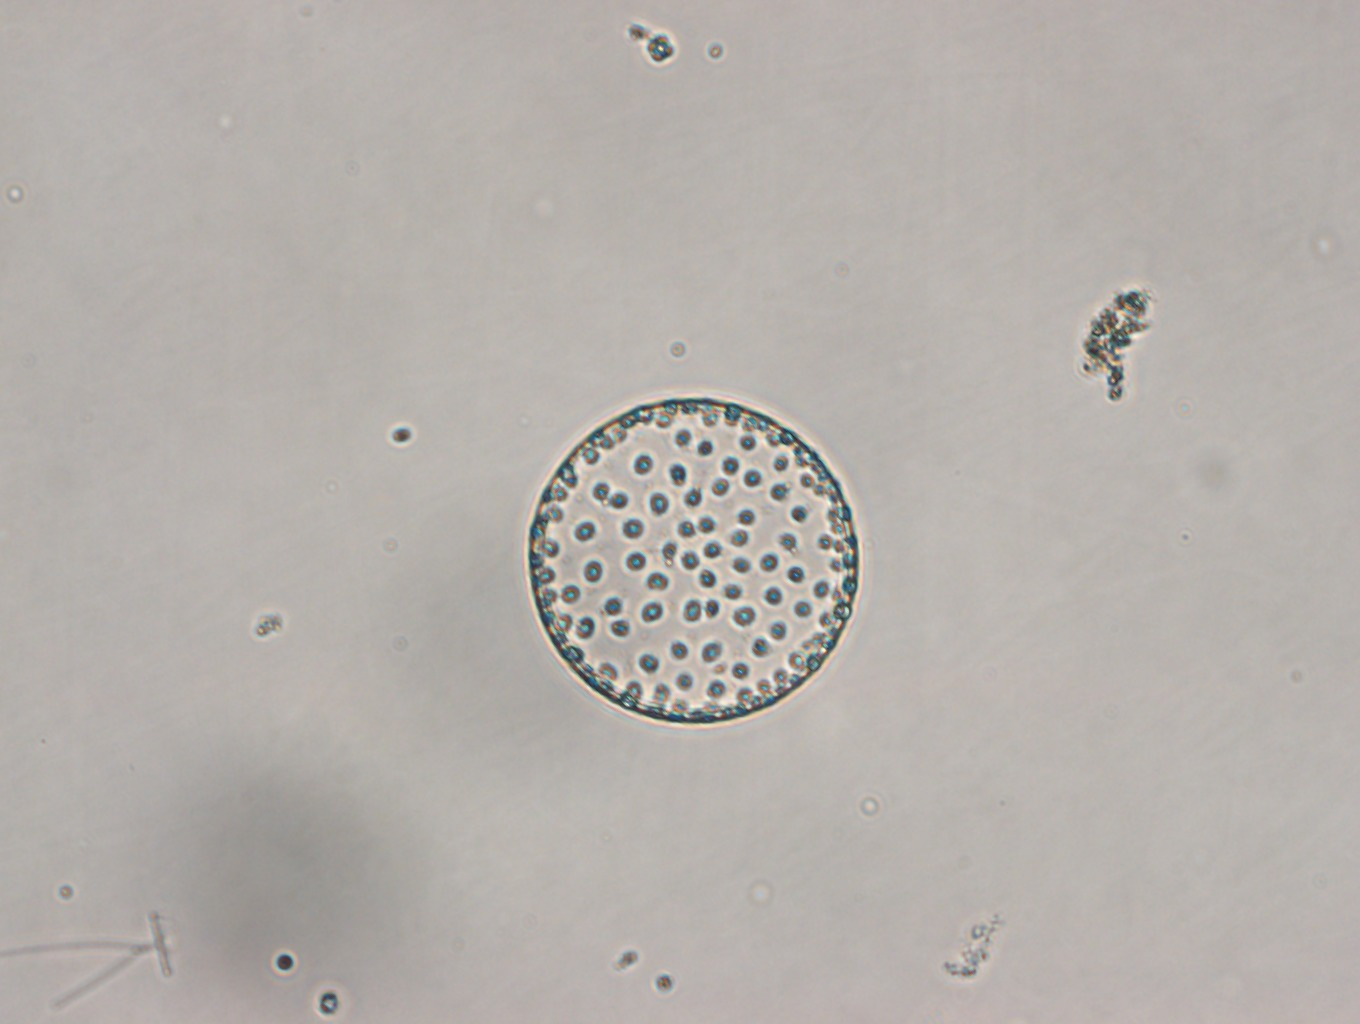coscinodiscus: (524, 392, 863, 726)
